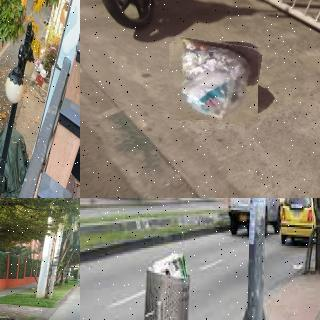Garbage: (166, 38, 261, 123)
